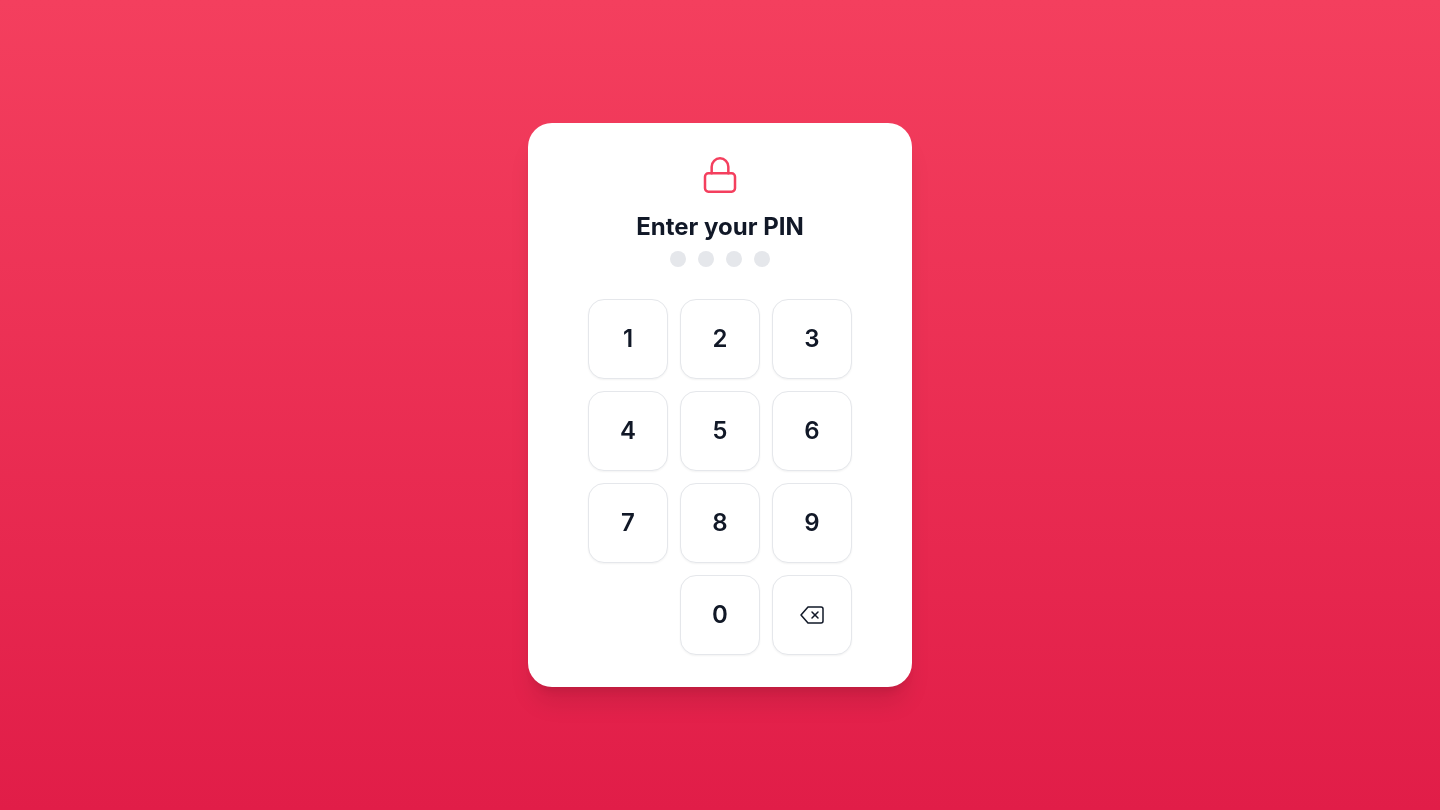
PinEntry flow › wrong PIN shows error and does not navigate
The width and height of the screenshot is (1440, 810).
What coordinates should you click on to do the following:
click the button "0"
I would click on:
 (720, 615)
Its box is [680,575,760,655].
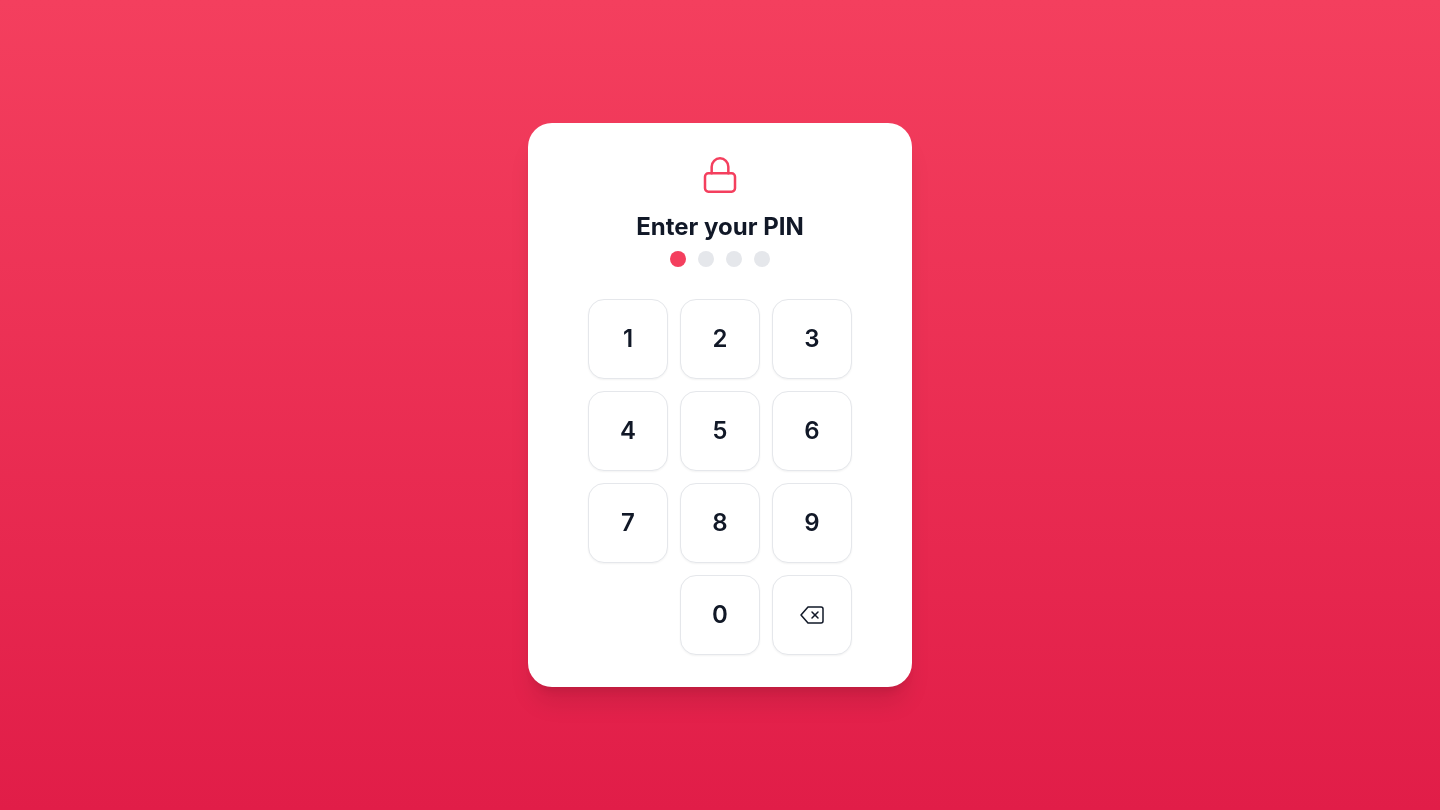
What coordinates should you click on to do the following:
click the button "0"
I would click on:
 (720, 615)
Its box is [680,575,760,655].
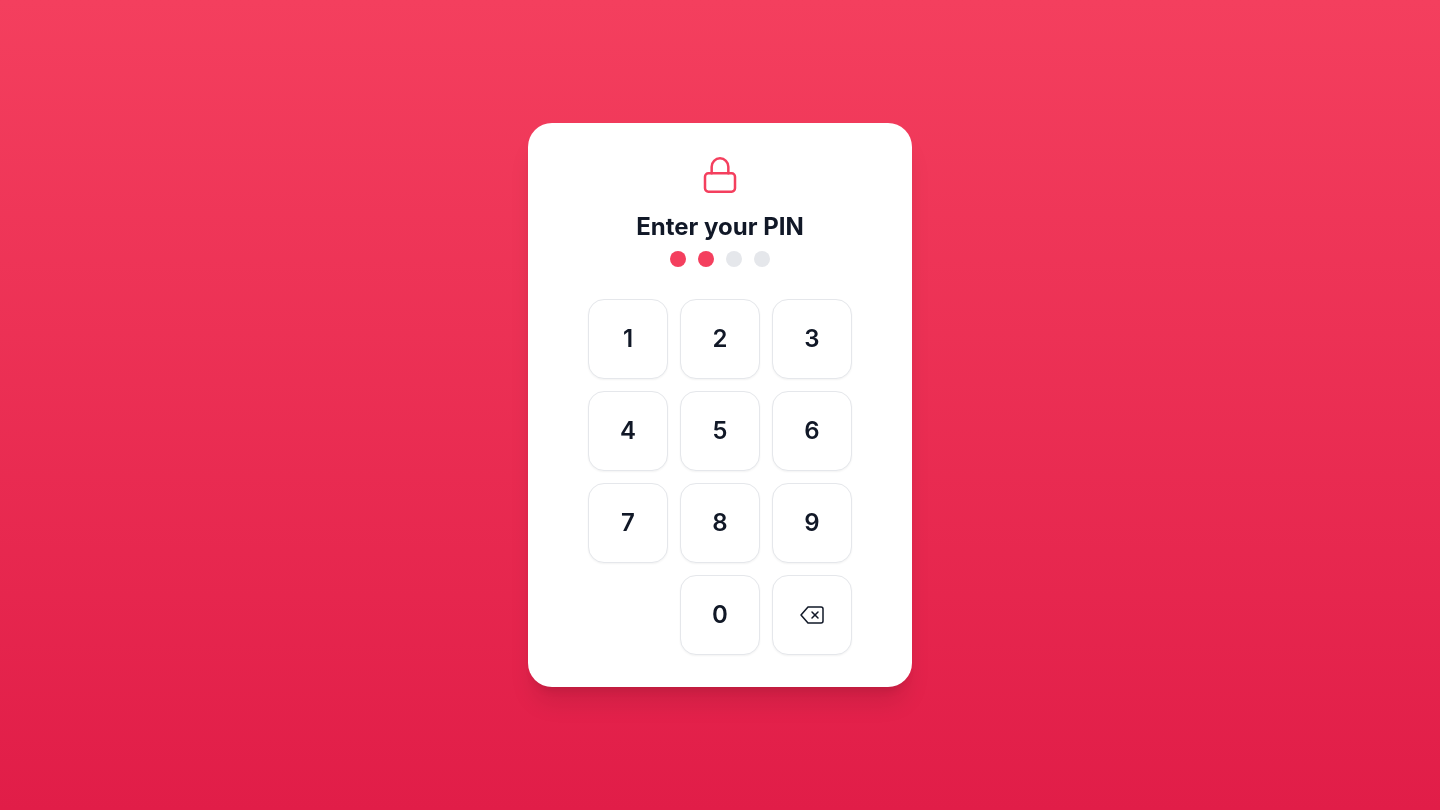
What coordinates should you click on to do the following:
click the button "0"
I would click on:
 (720, 615)
Its box is [680,575,760,655].
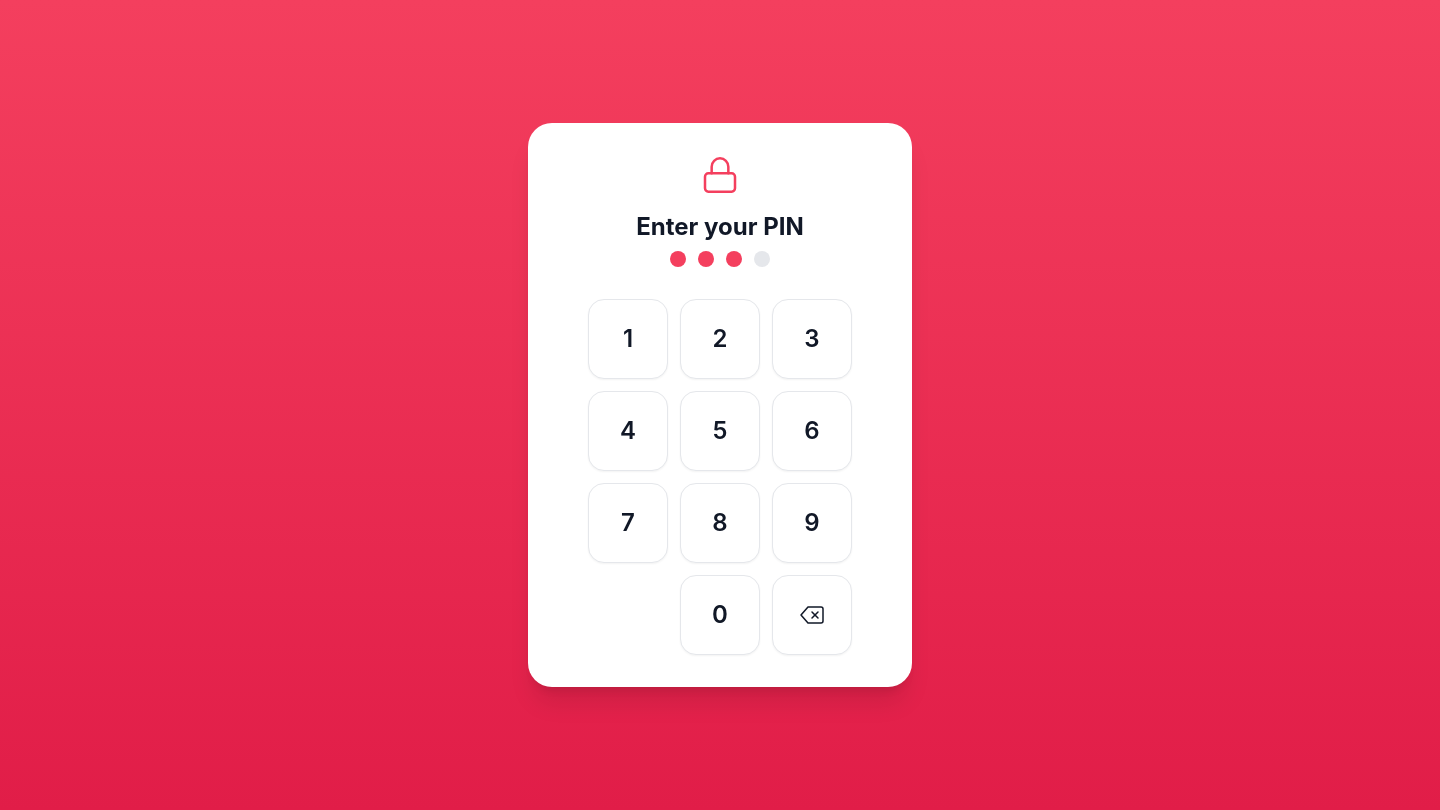
What coordinates should you click on to do the following:
click the button "0"
I would click on:
 (720, 615)
Its box is [680,575,760,655].
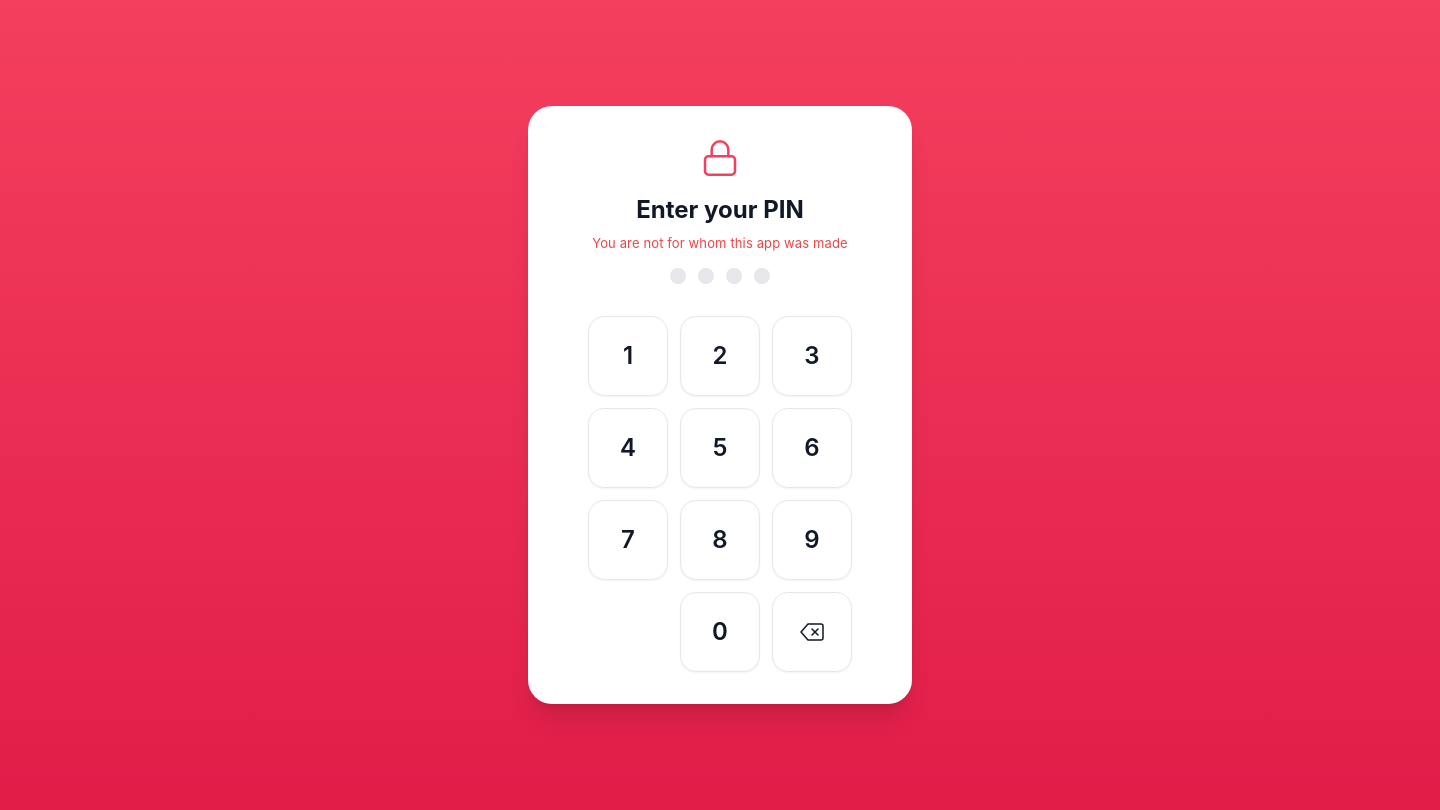
Result: the text "You are not for whom this app was made" is shown at [592,235,848,251]
